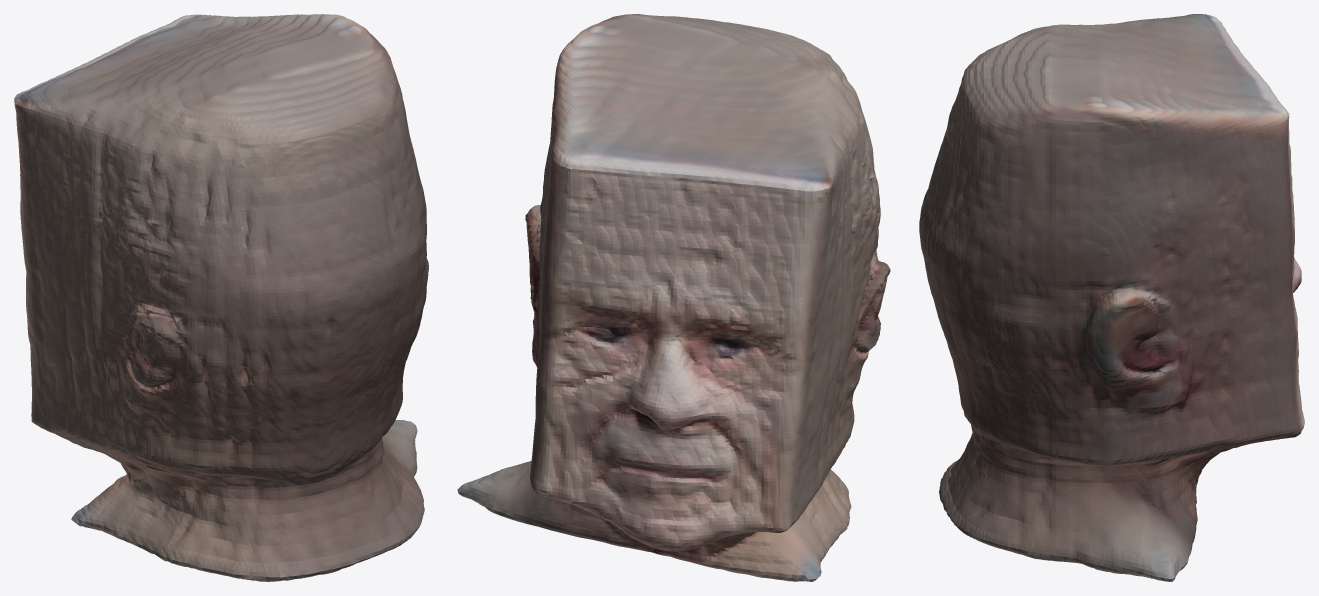
Rendered from square1.glb.
The picture shows the model from 3 angles, left to right: view 1: azimuth 30°, elevation 25°; view 2: azimuth 150°, elevation 25°; view 3: azimuth 270°, elevation 25°; orthographic projection. The views are drawn at different scales.
Visible parts, largest first — view 1: world; view 2: world; view 3: world.
Part boxes in pixels (box(x1,y1,x2,y2)): world: box(14, 14, 428, 581); world: box(457, 14, 890, 581); world: box(919, 14, 1304, 581).
Bounding box in the file's own units: 0.8426 × 0.9834 × 0.7689.
